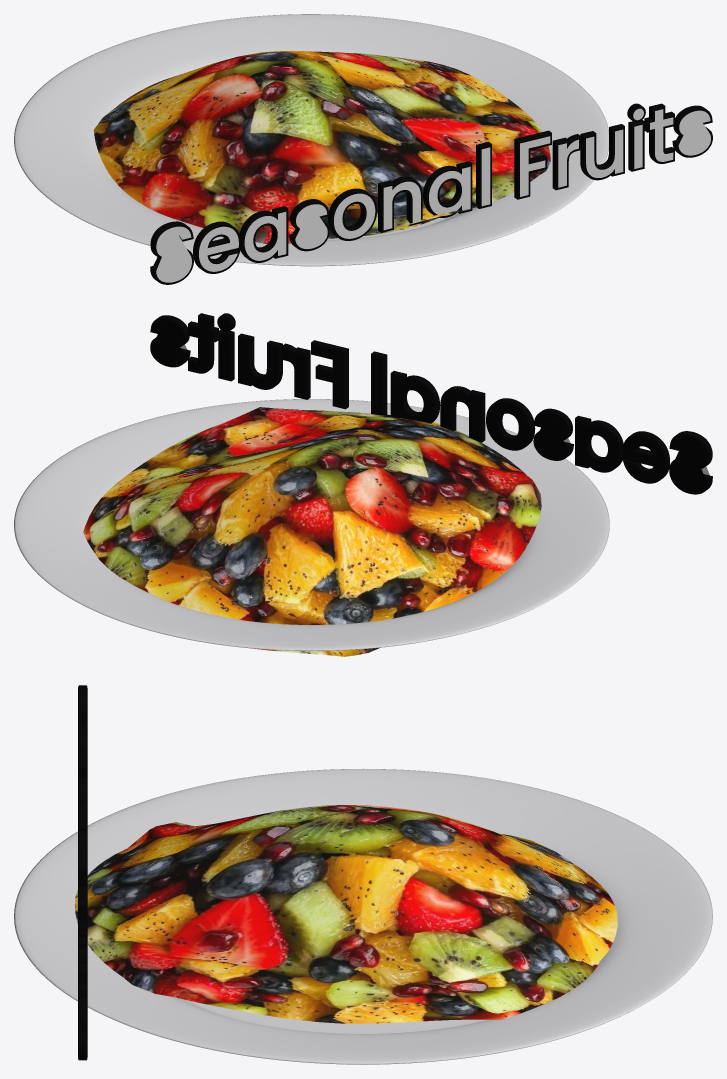
File: seasonal fruits.fbx
The picture shows the model from 3 angles, top to bottom: view 1: azimuth 30°, elevation 25°; view 2: azimuth 150°, elevation 25°; view 3: azimuth 270°, elevation 25°; orthographic projection. The views are drawn at different scales.
Visible parts, largest first — view 1: pPlane1, Circle, typeMesh2; view 2: pPlane1, Circle, typeMesh2; view 3: pPlane1, Circle, typeMesh2.
Part boxes in pixels (x1,y1,x2,y2): pPlane1: [93, 51, 550, 243]; Circle: [14, 14, 608, 266]; typeMesh2: [150, 103, 712, 284]; pPlane1: [83, 407, 541, 656]; Circle: [14, 399, 609, 650]; typeMesh2: [150, 313, 712, 494]; pPlane1: [74, 805, 617, 1023]; Circle: [14, 768, 712, 1064]; typeMesh2: [78, 685, 87, 1060].
Bounding box in the file's own units: 340 × 59.17 × 313.
4 materials, 1 textured.
